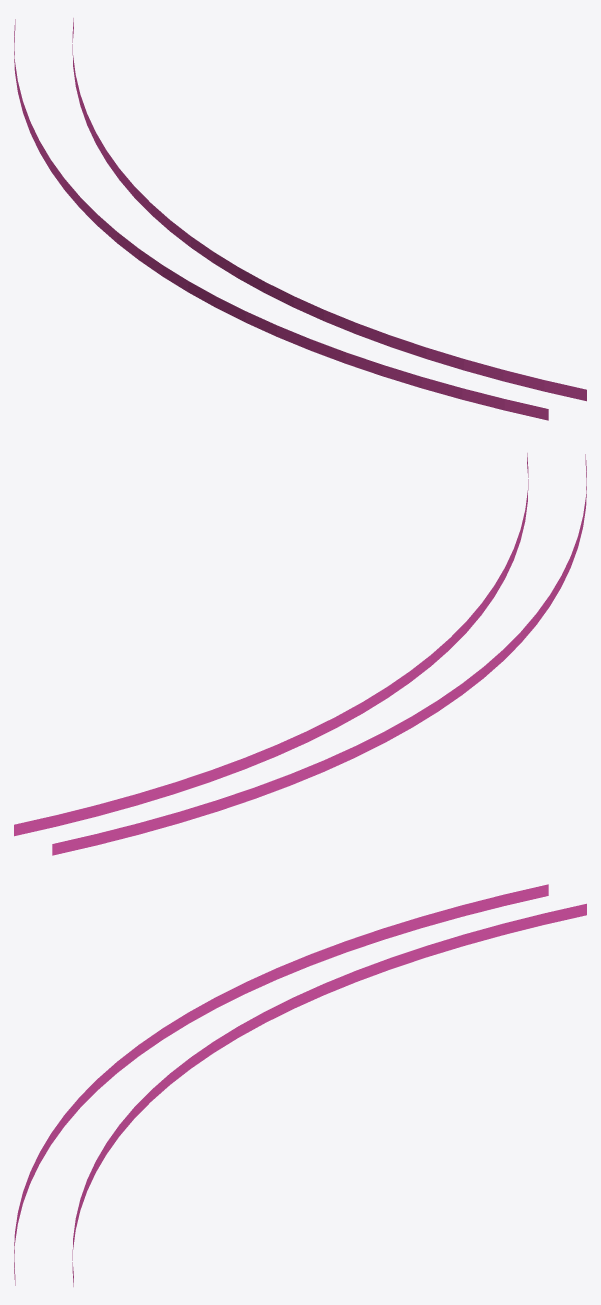
The model's file is RailNeonEntrance.obj.
The picture shows the model from 3 angles, top to bottom: view 1: azimuth 30°, elevation 25°; view 2: azimuth 150°, elevation 25°; view 3: azimuth 330°, elevation 25°; orthographic projection.
Parts seen in each view (by area): view 1: RailNeonEntrance; view 2: RailNeonEntrance; view 3: RailNeonEntrance.
Part boxes in pixels (<box>): RailNeonEntrance: <box>14,18,586,420</box>; RailNeonEntrance: <box>14,453,586,855</box>; RailNeonEntrance: <box>14,884,586,1286</box>.
Size of the model in its own units: 1.03 by 0.06 by 4.99.
Materials: 1 (1 with a texture image).
